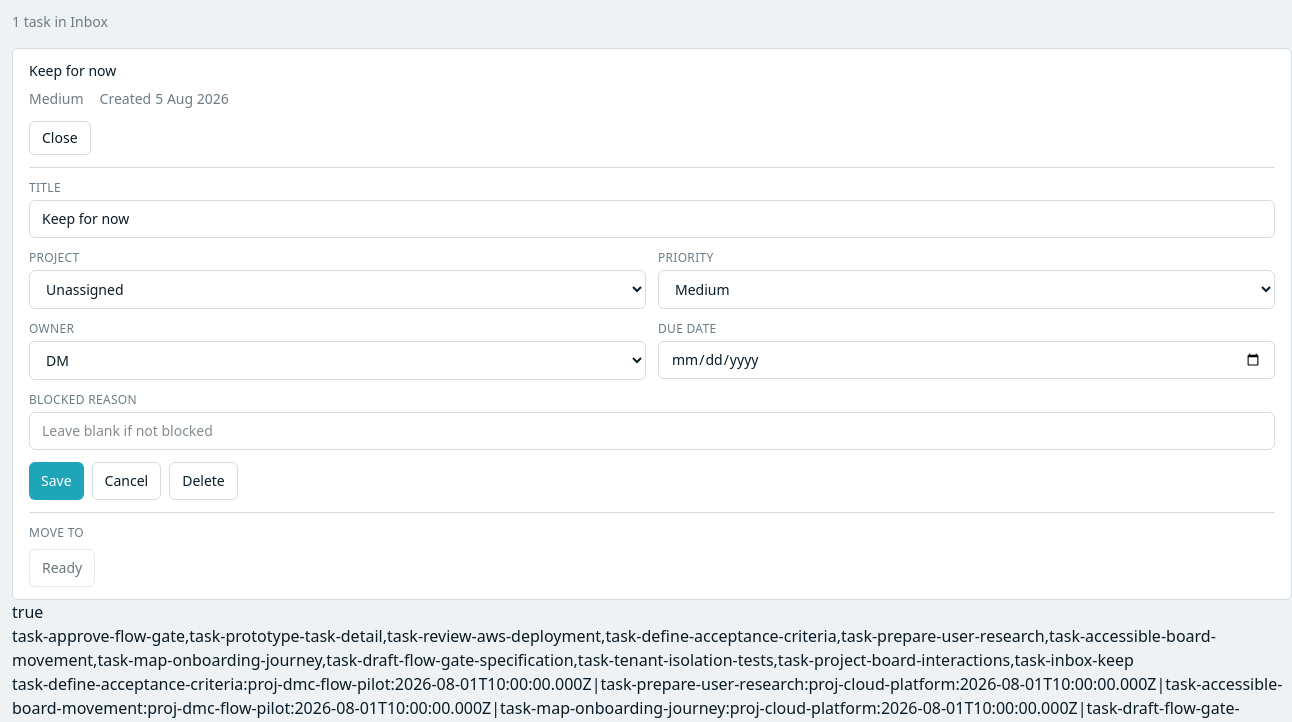
Scenario: InboxView › does not delete on the first Delete click
Expected: the text with test id "hydrated" reads "true", [12,601,43,623]
Click the button "Delete" at (204,481), box [169,462,238,500]
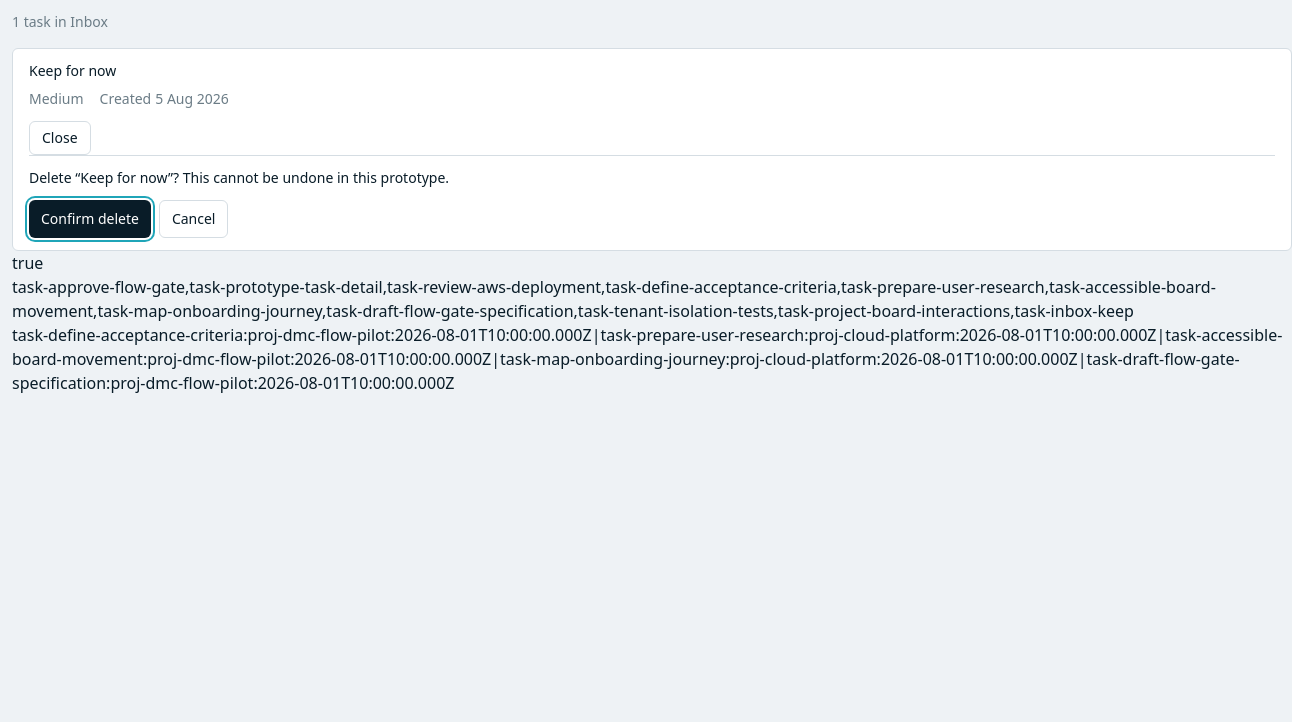
Expected: the text with test id "task-ids" shows "task-inbox-keep", [12,276,1216,322]
Now the text "Delete “Keep for now”" is shown, box [29,168,449,187]
Now the button "Confirm delete" is shown, box [29,200,151,238]
